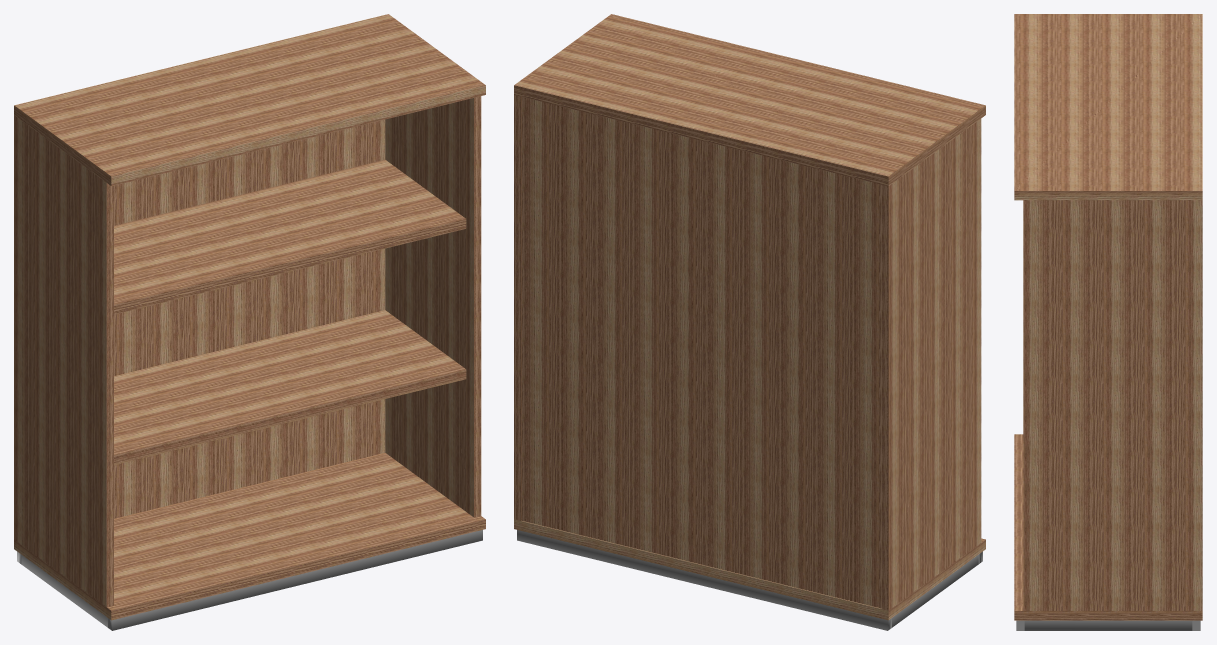
File: baseline_shelf_3OH_45x100_FIN.fbx
3 renders of one model, left to right at view 1: azimuth 30°, elevation 25°; view 2: azimuth 150°, elevation 25°; view 3: azimuth 270°, elevation 25°, orthographic. The views are drawn at different scales.
Parts seen in each view (by area): view 1: body_mesh, podstawa_mesh; view 2: body_mesh, podstawa_mesh; view 3: body_mesh, podstawa_mesh.
Part boxes in pixels (x1=…): body_mesh: x1=14, y1=14, x2=485, y2=620; podstawa_mesh: x1=17, y1=530, x2=482, y2=630; body_mesh: x1=514, y1=14, x2=985, y2=620; podstawa_mesh: x1=517, y1=530, x2=982, y2=630; body_mesh: x1=1014, y1=14, x2=1202, y2=620; podstawa_mesh: x1=1016, y1=620, x2=1200, y2=630.
Bounding box in the file's own units: 100 × 116 × 45.
